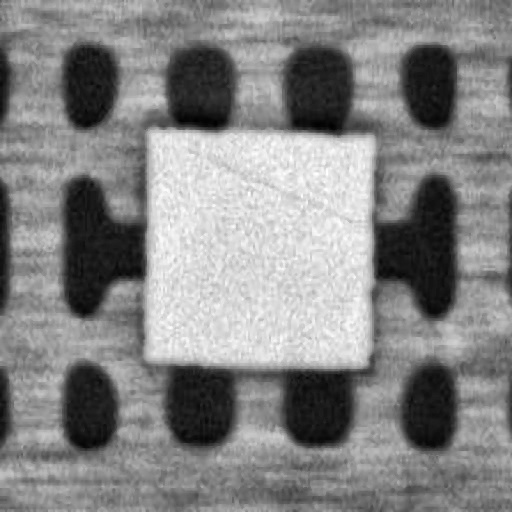DIE_CRACK: (276, 96, 512, 144)
